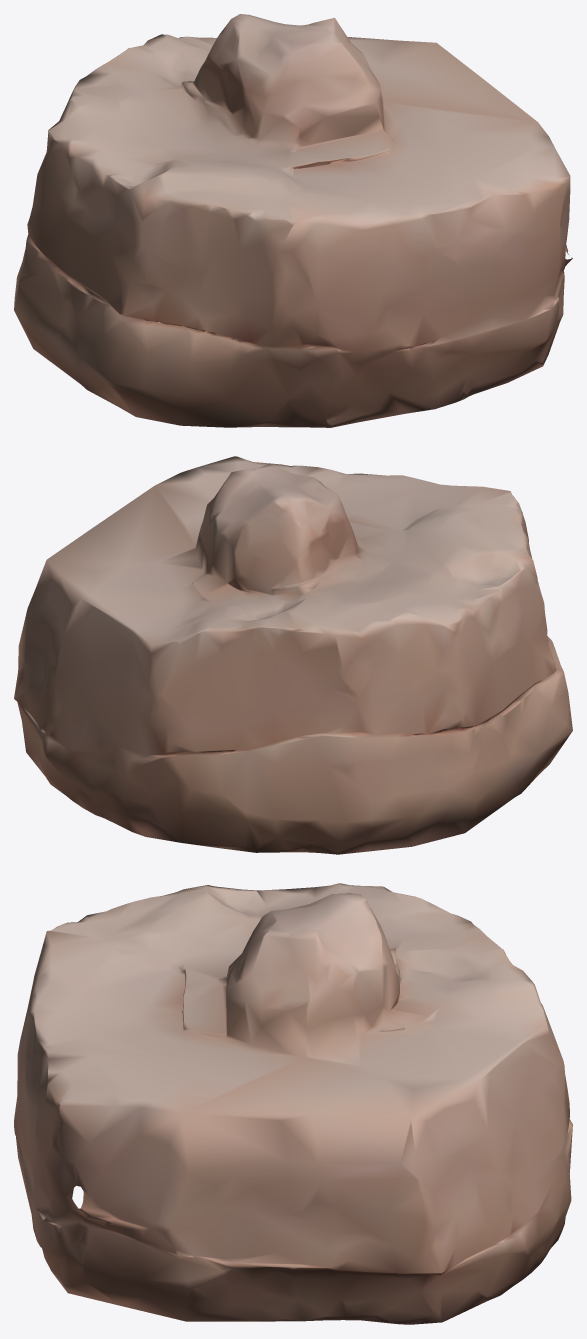
Rendered from redrock_near.glb.
3 views of the same model, one above another, from view 1: azimuth 30°, elevation 25°; view 2: azimuth 150°, elevation 25°; view 3: azimuth 270°, elevation 25° (orthographic). The views are drawn at different scales.
Parts seen in each view (by area): view 1: redrock; view 2: redrock; view 3: redrock.
Part boxes in pixels (box(x1,y1,x2,y2)): redrock: box(14, 14, 572, 427); redrock: box(14, 456, 572, 854); redrock: box(14, 883, 572, 1324).
Bounding box in the file's own units: 1.64 × 1 × 1.63.
